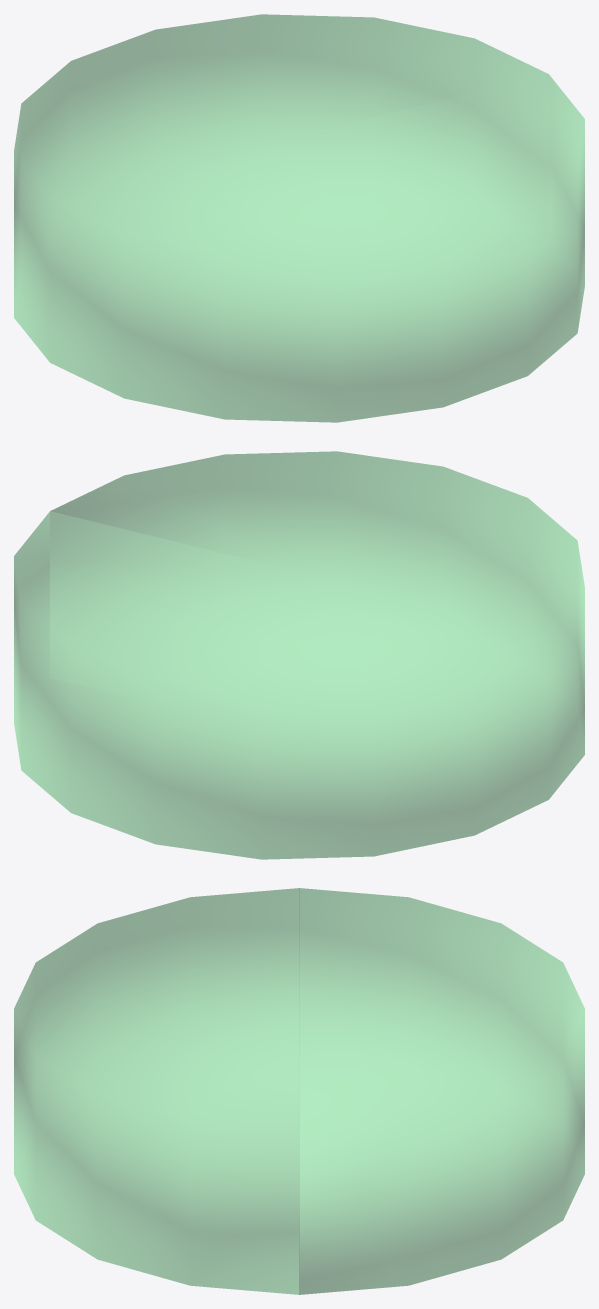
File: guti_clay_shard_col.glb
3 views of the same model, one above another, from view 1: azimuth 30°, elevation 25°; view 2: azimuth 150°, elevation 25°; view 3: azimuth 270°, elevation 25° (orthographic).
Visible parts, largest first — view 1: guti_clay_shard_col_0; view 2: guti_clay_shard_col_0; view 3: guti_clay_shard_col_0.
Boxes of the visible parts, x1,y1,x2,y2 form: guti_clay_shard_col_0: (14,14,584,422); guti_clay_shard_col_0: (14,451,584,859); guti_clay_shard_col_0: (14,888,584,1294).
Bounding box in the file's own units: 0.025 × 0.008 × 0.025.
